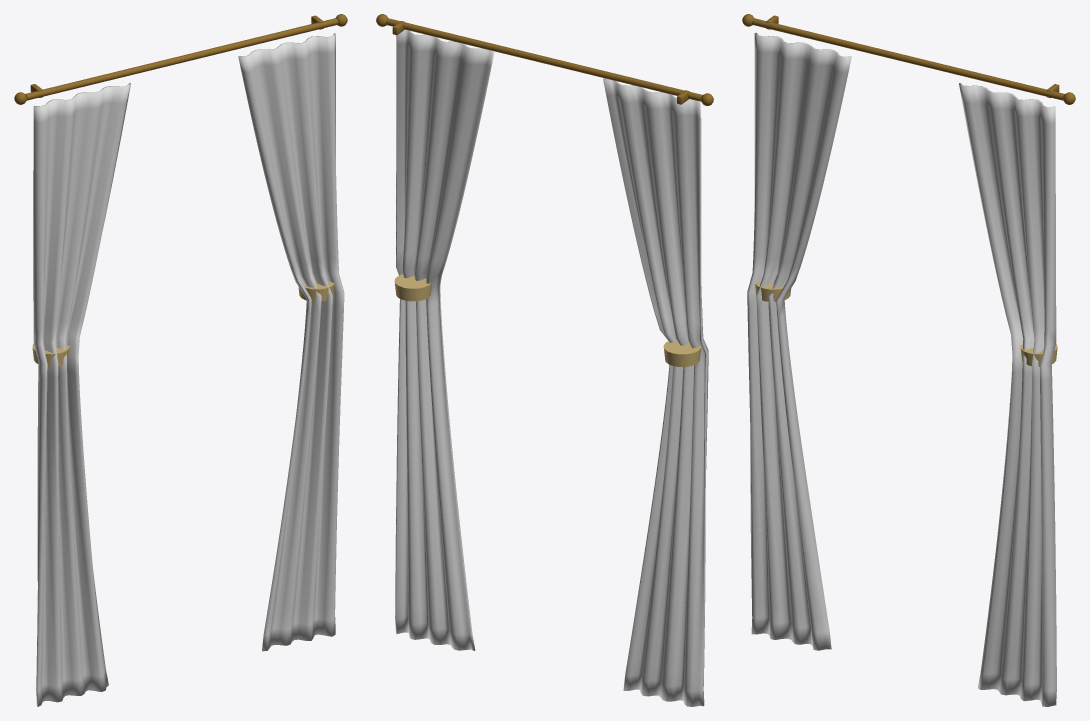
File: drapes_long.glb
The picture shows the model from 3 angles, left to right: view 1: azimuth 30°, elevation 25°; view 2: azimuth 150°, elevation 25°; view 3: azimuth 330°, elevation 25°; orthographic projection.
Parts seen in each view (by area): view 1: dl.panel-1, dl.panel1, dl.rod; view 2: dl.panel1, dl.panel-1, dl.rod, dl.tie1, dl.tie-1; view 3: dl.panel1, dl.panel-1, dl.rod.
Part boxes in pixels (left/top/right/bottom): dl.panel-1: left=33, top=83, right=130, bottom=706; dl.panel1: left=238, top=33, right=344, bottom=651; dl.rod: left=25, top=18, right=337, bottom=100; dl.panel1: left=395, top=29, right=494, bottom=650; dl.panel-1: left=603, top=78, right=708, bottom=706; dl.rod: left=386, top=18, right=702, bottom=101; dl.tie1: left=394, top=274, right=431, bottom=301; dl.tie-1: left=663, top=341, right=701, bottom=366; dl.panel1: left=959, top=83, right=1056, bottom=706; dl.panel-1: left=747, top=32, right=851, bottom=650; dl.rod: left=752, top=18, right=1064, bottom=100.
Size of the model in its own units: 1.32 by 2.33 by 0.1633.
